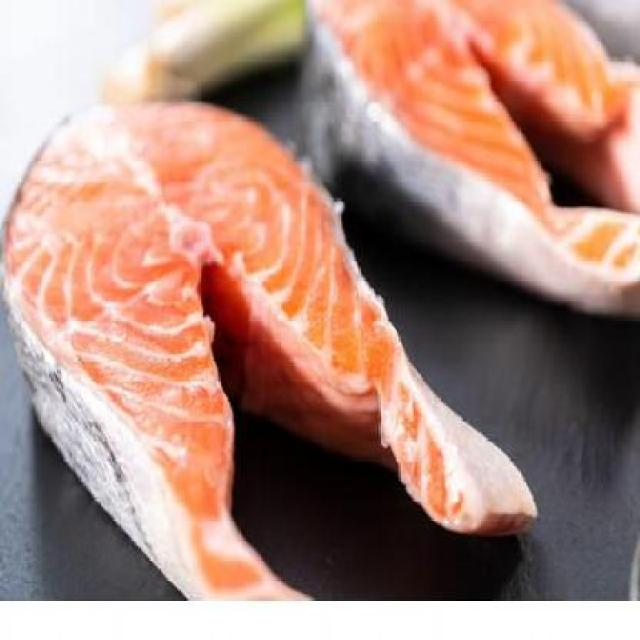salmon: (6, 72, 559, 598), (291, 3, 640, 322)
